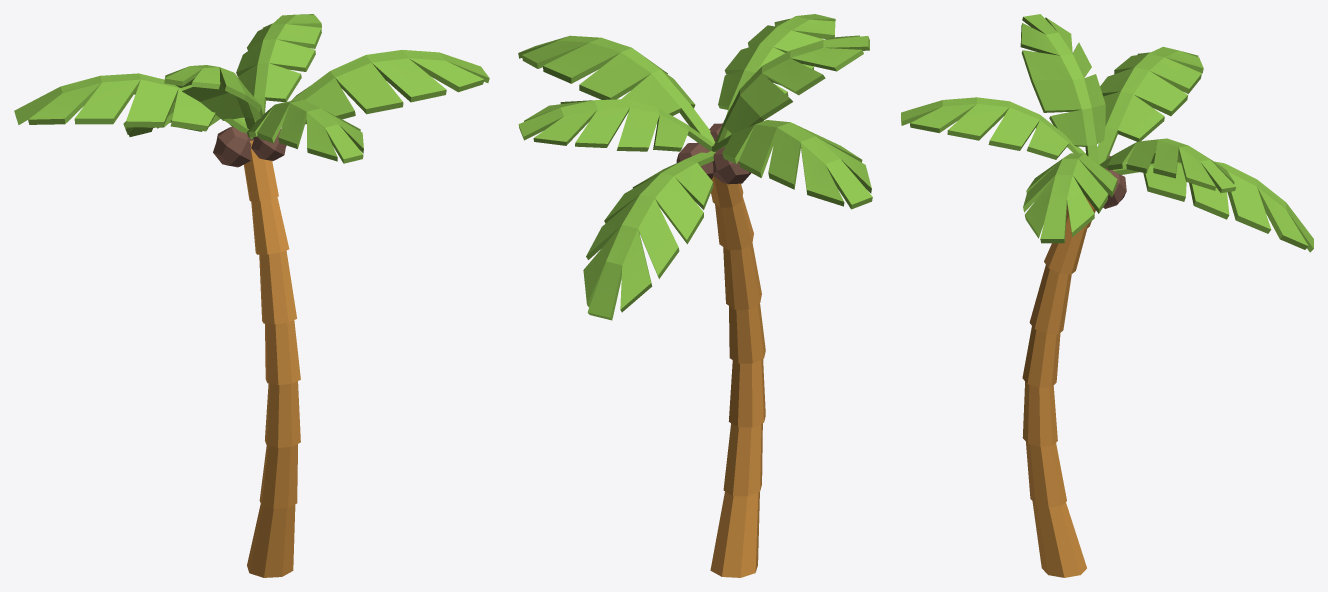
File: palm_tree_02.obj
3 renders of one model, left to right at view 1: azimuth 30°, elevation 25°; view 2: azimuth 150°, elevation 25°; view 3: azimuth 270°, elevation 25°, orthographic. The views are drawn at different scales.
Parts seen in each view (by area): view 1: palm_tree_01; view 2: palm_tree_01; view 3: palm_tree_01.
Part boxes in pixels (box(x1,y1,x2,y2)): palm_tree_01: box(14, 14, 489, 577); palm_tree_01: box(518, 14, 872, 577); palm_tree_01: box(901, 14, 1313, 577).
Bounding box in the file's own units: 160 × 200 × 149.
